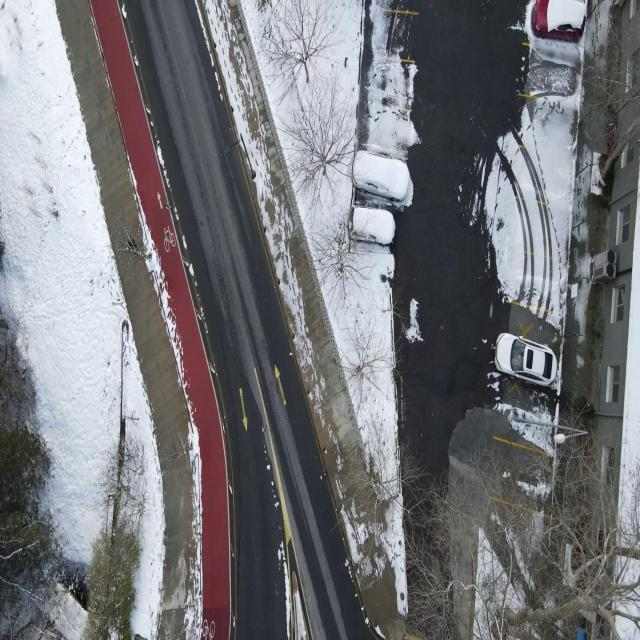p3rson: (126, 238, 137, 251)
